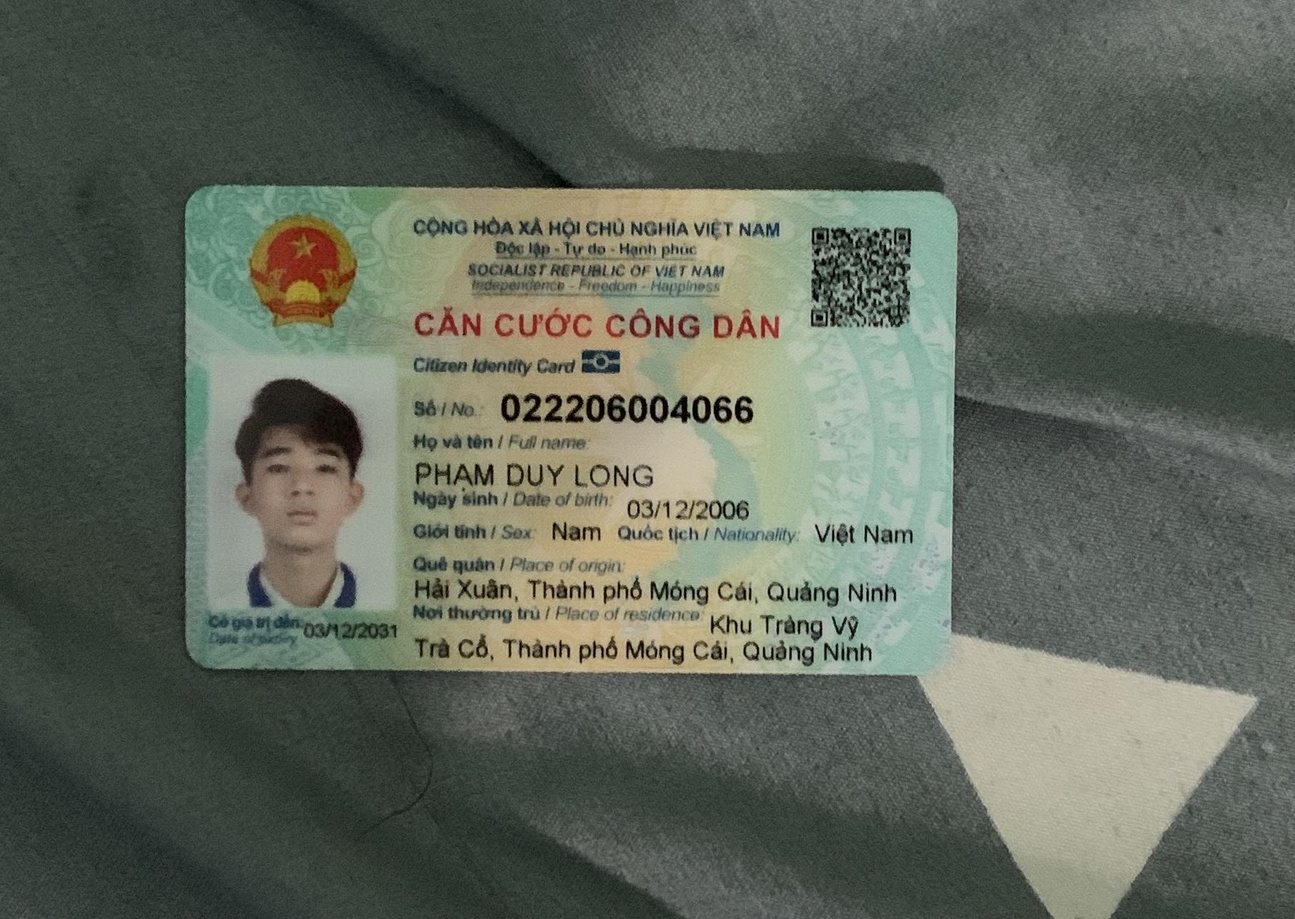ID: (492, 385, 765, 432)
birth: (616, 495, 755, 524)
name: (412, 453, 662, 492)
place: (409, 573, 904, 606)
residence: (412, 633, 881, 670), (704, 611, 869, 641)
